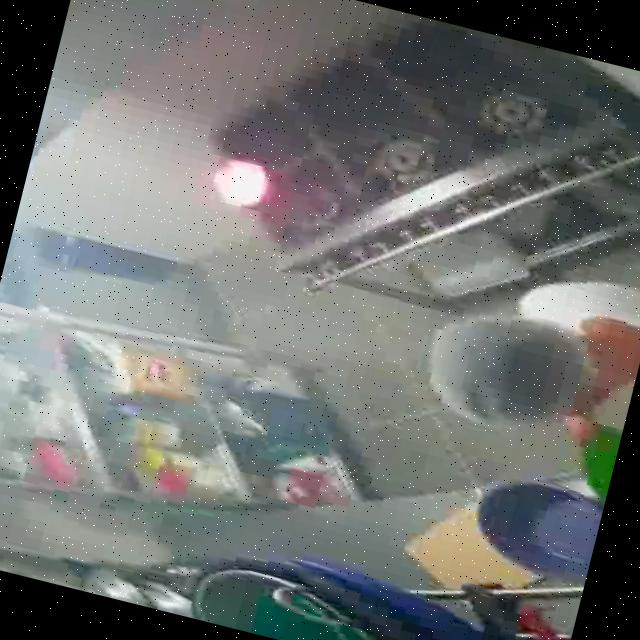fire: (138, 115, 336, 245)
